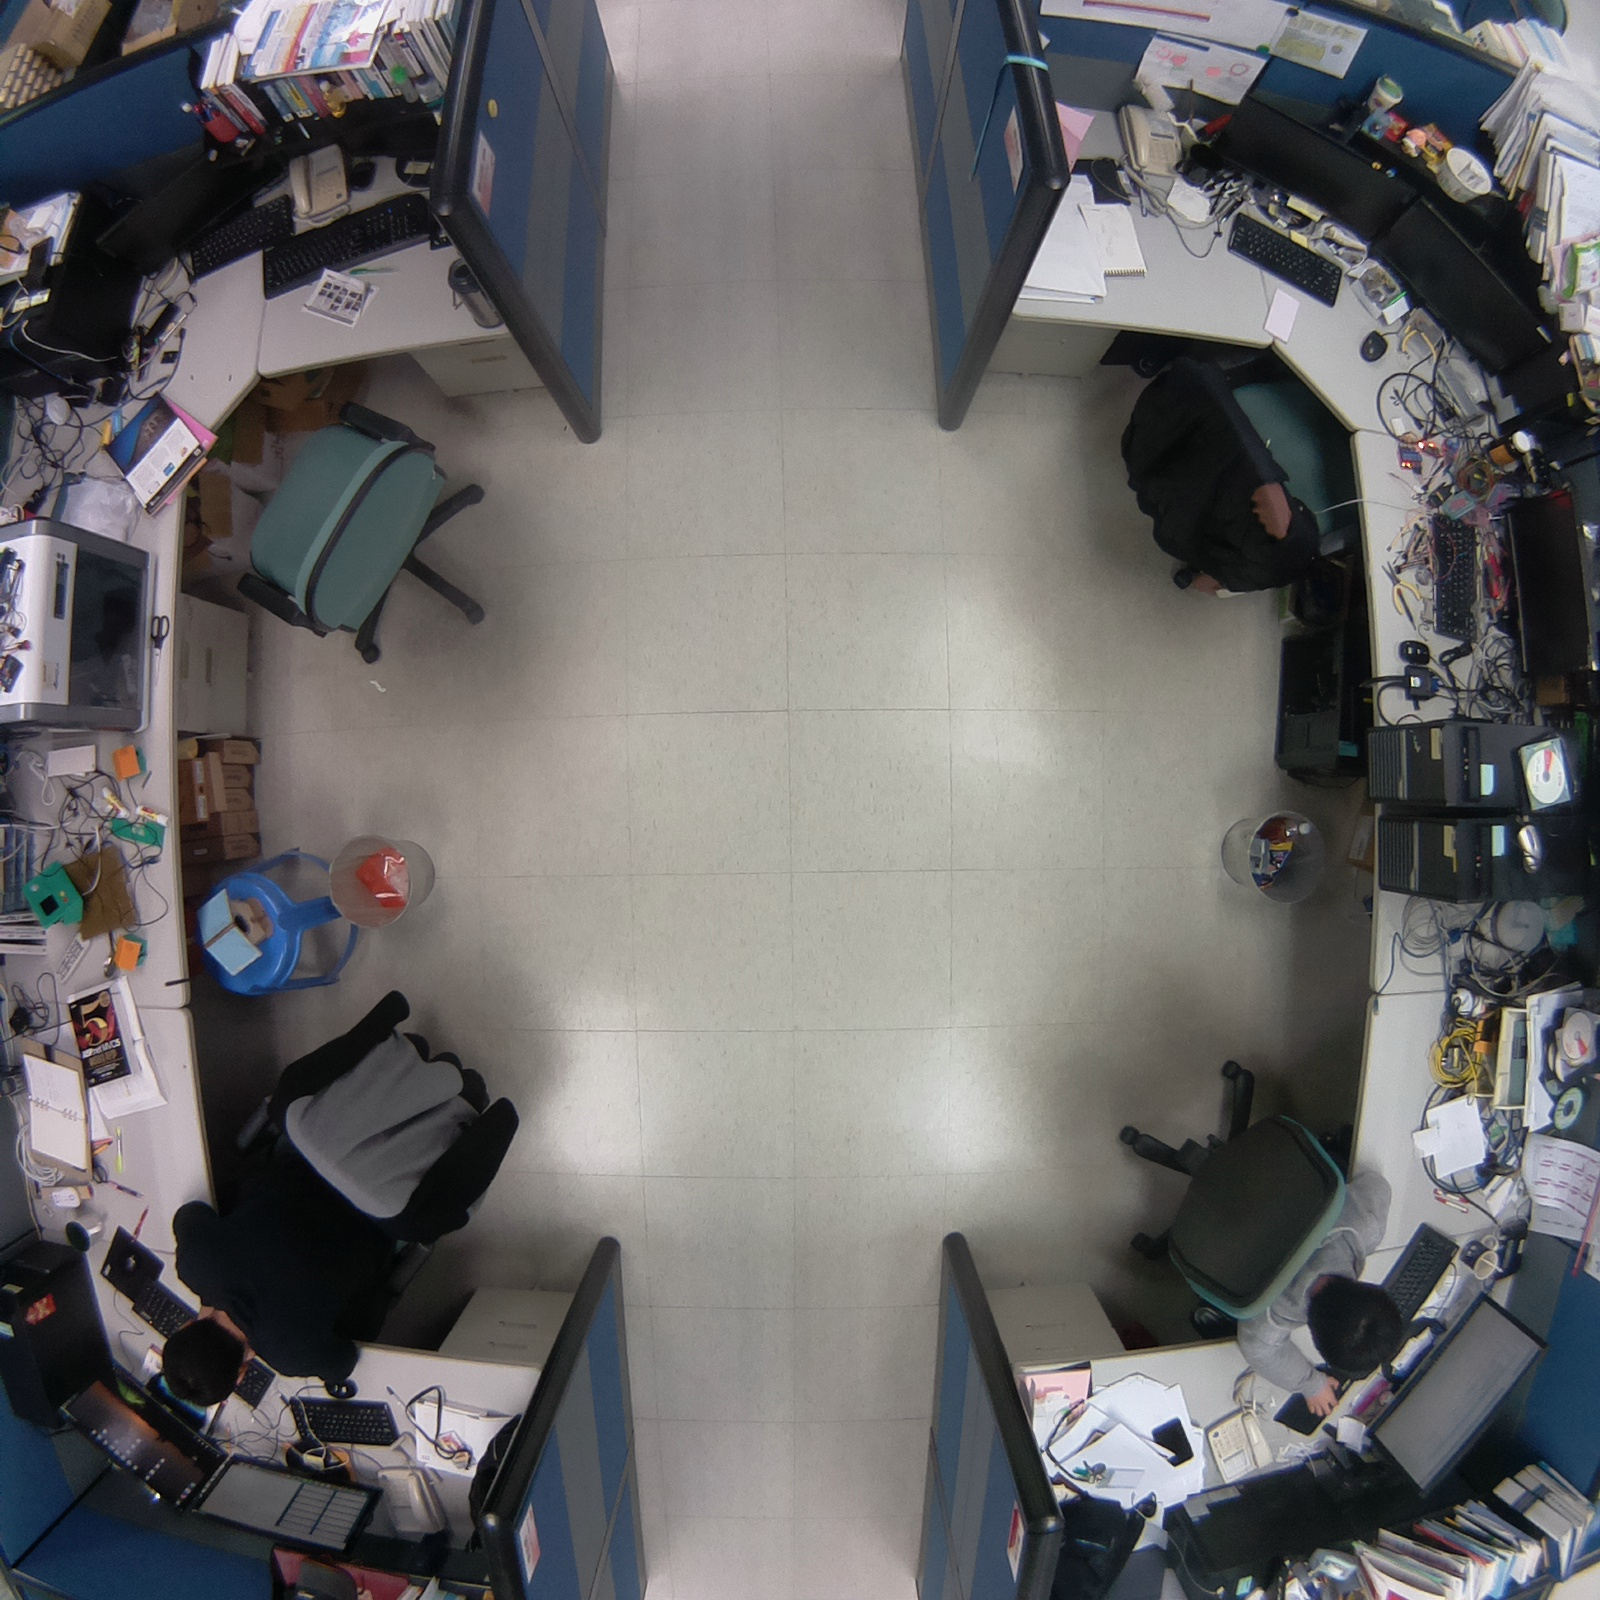chair: (209, 383, 519, 693), (1088, 327, 1376, 614)
head: (1297, 1265, 1415, 1387), (153, 1314, 255, 1417)
sitting: (148, 973, 540, 1427), (1096, 1027, 1432, 1418)
